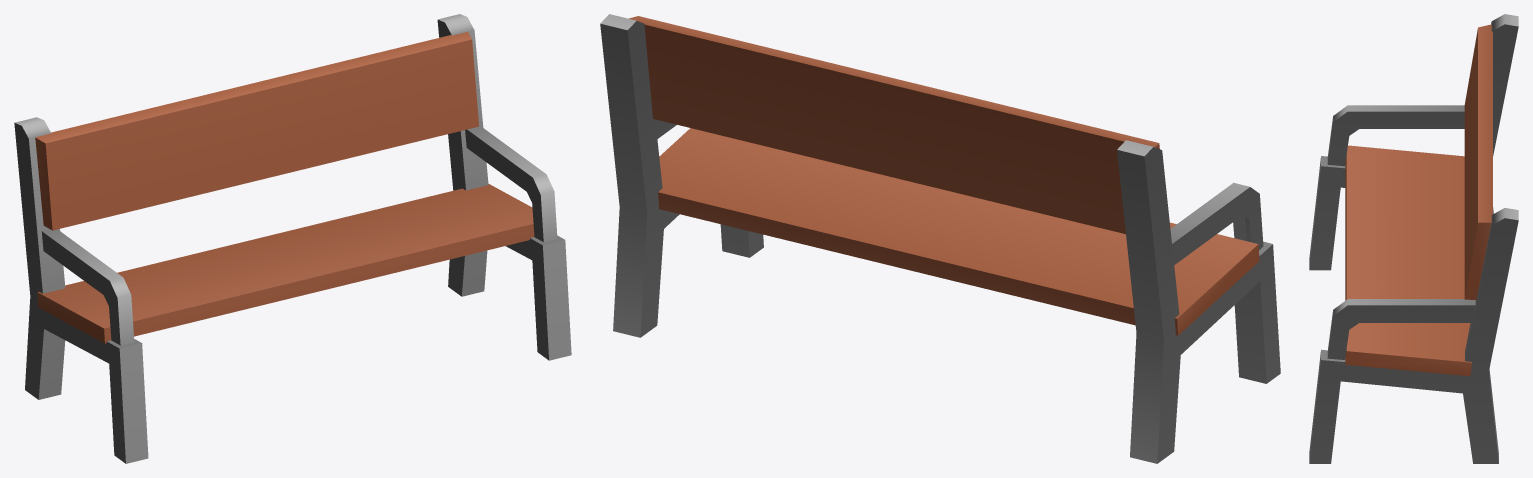
The model's file is Bench_Orange.fbx.
3 renders of one model, left to right at view 1: azimuth 30°, elevation 25°; view 2: azimuth 150°, elevation 25°; view 3: azimuth 270°, elevation 25°, orthographic. The views are drawn at different scales.
Visible parts, largest first — view 1: Bench_Orange; view 2: Bench_Orange; view 3: Bench_Orange.
Boxes of the visible parts, bbox=[...] form: Bench_Orange: bbox=[14, 14, 571, 463]; Bench_Orange: bbox=[600, 14, 1280, 463]; Bench_Orange: bbox=[1309, 14, 1518, 463].
Size of the model in its own units: 173 by 96.23 by 74.34.
